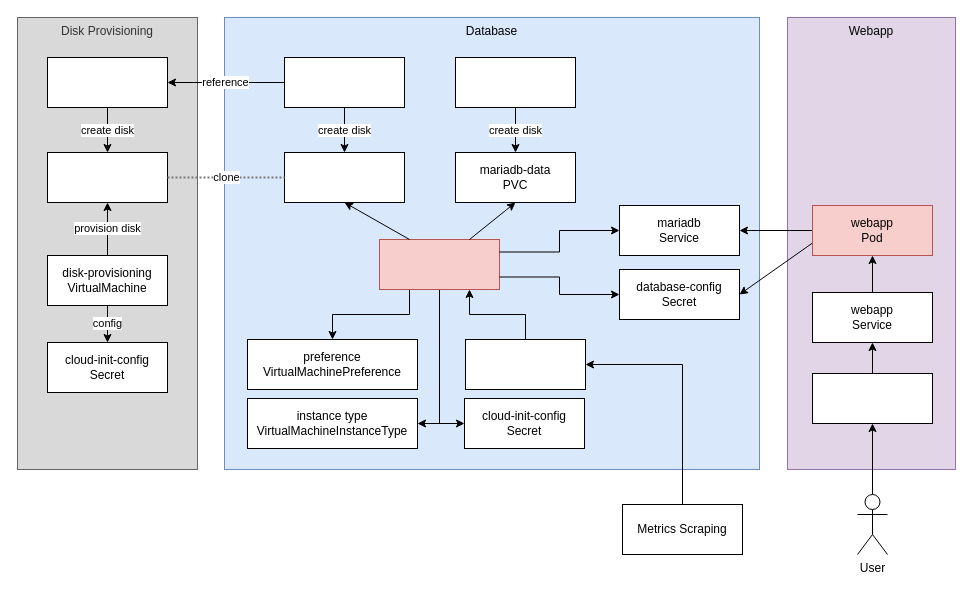
Image size: 973x593. Some labels were removed from this diagram. The shapes that lost their labels are listed below. From the top down, each one's box as (x1, y1, x2, y2) in pixels, then its label:
(46, 56, 168, 108): mariadb-base DataVolume
(284, 56, 404, 108): mariadb DataVolume
(454, 56, 576, 108): mariadb-data DataVolume
(46, 152, 168, 202): mariadb-base PVC
(284, 152, 404, 202): mariadb PVC
(378, 238, 500, 290): database VirtualMachine
(464, 338, 586, 390): node-exporter Service
(812, 372, 932, 424): webapp Ingress
